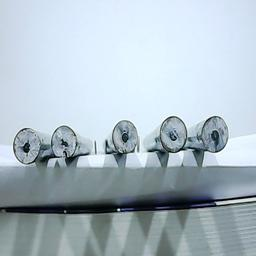pen: (159, 114, 187, 153), (200, 114, 228, 153), (12, 127, 40, 164), (110, 118, 138, 155), (50, 123, 78, 160)
